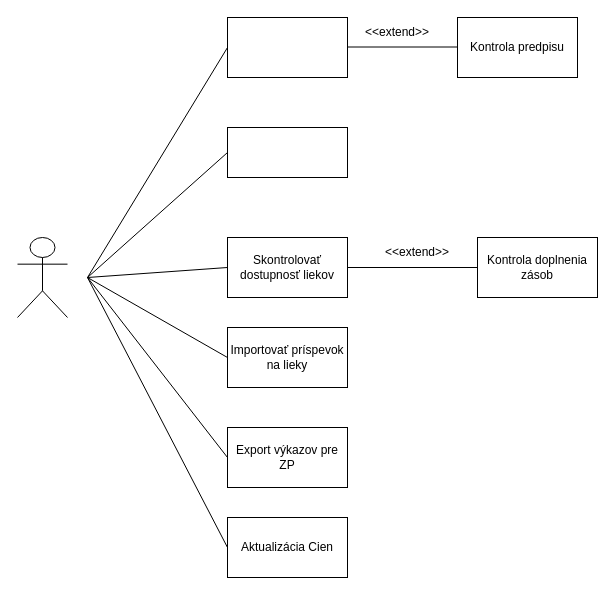
The diagram is 615 pixels wide and 595 high, and some of its shapes have lost their labels. Each missing label, with the centre of its shape:
Lekarnik: [42,277]
Predaj lieku: [287,47]
Pridať/odobrať liek: [287,152]
